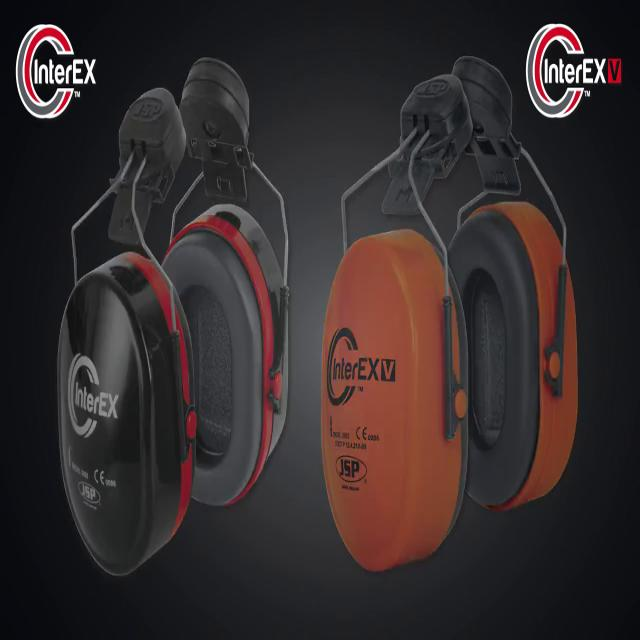earmuff: (317, 227, 472, 582), (52, 248, 199, 590), (440, 197, 582, 519), (156, 192, 291, 517)
